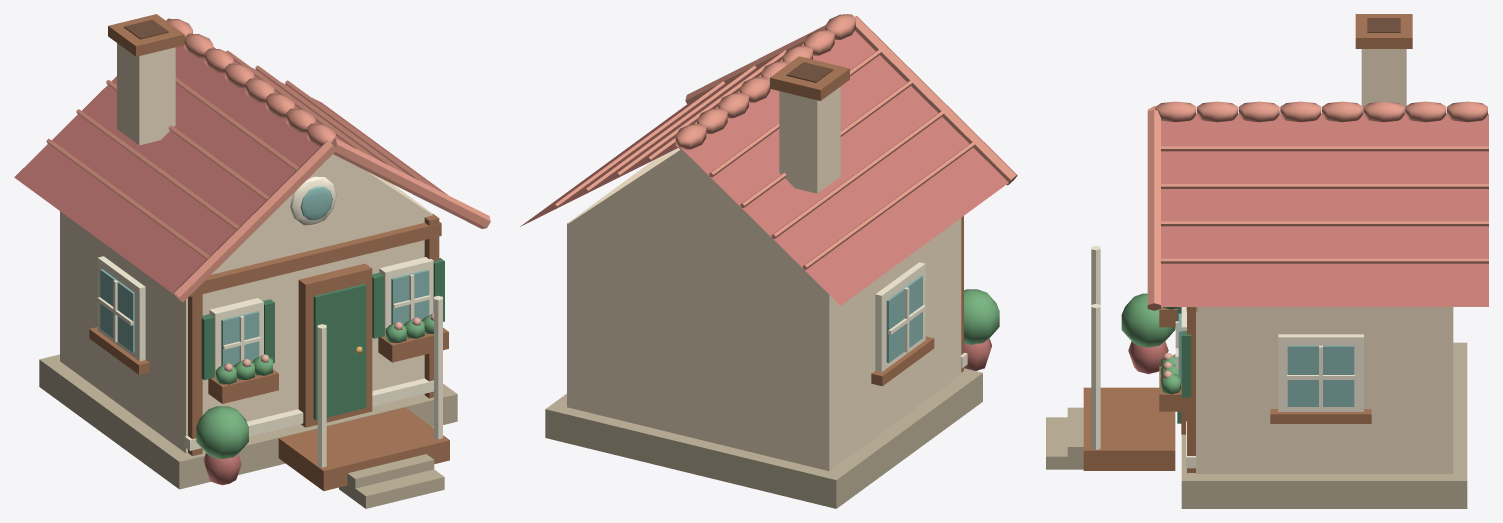
The model's file is house.glb.
3 renders of one model, left to right at view 1: azimuth 30°, elevation 25°; view 2: azimuth 150°, elevation 25°; view 3: azimuth 270°, elevation 25°, orthographic. The views are drawn at different scales.
Parts seen in each view (by area): view 1: roof-slope--1, plaster-walls, stone-foundation, gable-front, porch-deck, sage-door, chimney, door-frame, front-crossbeam, roof-fascia--1, roof-fascia-1, pot-shrub (+38 smaller); view 2: plaster-walls, roof-slope--1, stone-foundation, gable-back, chimney, roof-fascia--1, side-window-glass--1, side-window-frame--1, chimney-cap, roof-slope-1, pot-shrub, tile-row--1-4 (+16 smaller); view 3: roof-slope-1, plaster-walls, stone-foundation, porch-deck, side-window-glass-1, roof-fascia-1, side-window-frame-1, chimney, tile-row-1-4, tile-row-1-1, tile-row-1-3, pot-shrub (+20 smaller).
Boxes of the visible parts, x1=… form: roof-slope--1: x1=14, y1=45, x2=319, y2=294; plaster-walls: x1=60, y1=171, x2=432, y2=453; stone-foundation: x1=39, y1=354, x2=457, y2=489; gable-front: x1=215, y1=154, x2=432, y2=270; porch-deck: x1=278, y1=407, x2=449, y2=490; sage-door: x1=313, y1=284, x2=366, y2=420; chimney: x1=117, y1=43, x2=175, y2=145; door-frame: x1=298, y1=263, x2=372, y2=427; front-crossbeam: x1=190, y1=222, x2=441, y2=296; roof-fascia--1: x1=173, y1=140, x2=336, y2=302; roof-fascia-1: x1=332, y1=138, x2=490, y2=228; pot-shrub: x1=196, y1=406, x2=248, y2=458; plaster-walls: x1=567, y1=148, x2=961, y2=471; roof-slope--1: x1=680, y1=30, x2=1008, y2=305; stone-foundation: x1=545, y1=368, x2=982, y2=508; gable-back: x1=568, y1=149, x2=818, y2=284; chimney: x1=779, y1=87, x2=840, y2=193; roof-fascia--1: x1=855, y1=16, x2=1017, y2=185; side-window-glass--1: x1=886, y1=275, x2=922, y2=362; side-window-frame--1: x1=875, y1=262, x2=925, y2=372; chimney-cap: x1=770, y1=56, x2=849, y2=100; roof-slope-1: x1=520, y1=58, x2=782, y2=226; pot-shrub: x1=964, y1=289, x2=999, y2=344; tile-row--1-4: x1=802, y1=142, x2=975, y2=269; roof-slope-1: x1=1161, y1=114, x2=1488, y2=306; plaster-walls: x1=1196, y1=307, x2=1453, y2=473; stone-foundation: x1=1181, y1=342, x2=1467, y2=508; porch-deck: x1=1083, y1=387, x2=1175, y2=470; side-window-glass-1: x1=1287, y1=345, x2=1354, y2=406; roof-fascia-1: x1=1147, y1=109, x2=1160, y2=310; side-window-frame-1: x1=1278, y1=334, x2=1363, y2=411; chimney: x1=1361, y1=49, x2=1406, y2=113; tile-row-1-4: x1=1160, y1=258, x2=1488, y2=263; tile-row-1-1: x1=1160, y1=146, x2=1488, y2=151; tile-row-1-3: x1=1160, y1=221, x2=1488, y2=226; pot-shrub: x1=1121, y1=293, x2=1175, y2=347.
Size of the model in its own units: 3.12 by 3.51 by 3.72.
